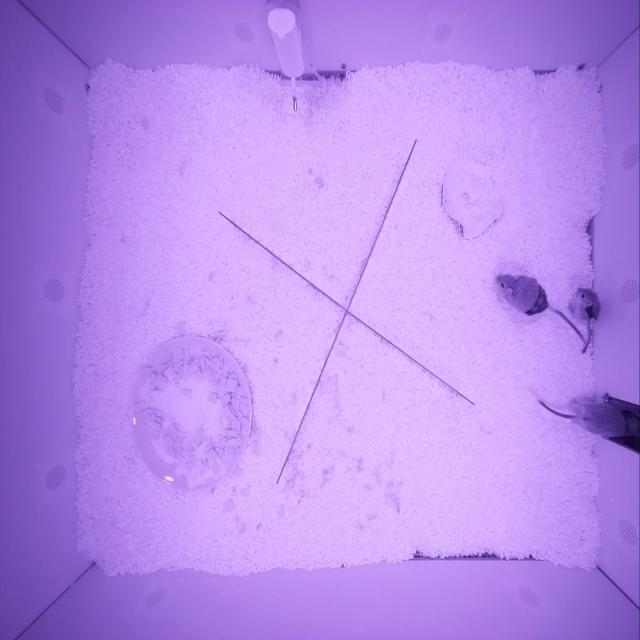adult_back: (495, 275, 549, 315)
adult_front: (569, 397, 640, 440)
pup_v_stripe: (567, 287, 600, 319)
